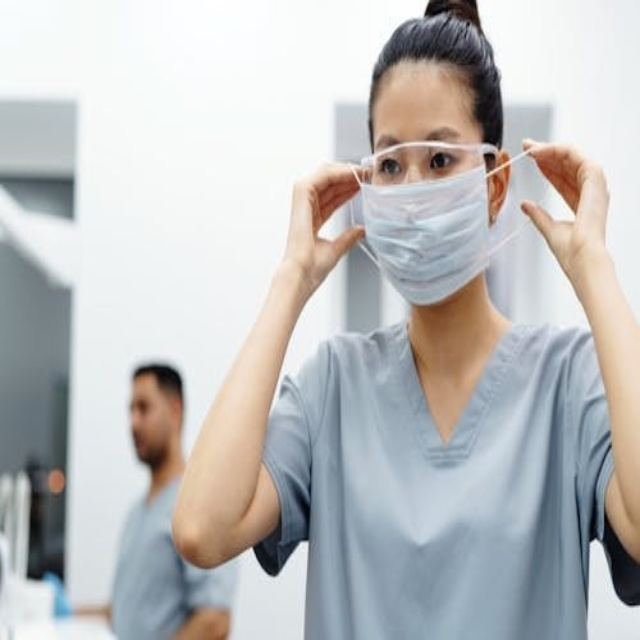Gafas: (353, 135, 504, 202)
Mascara: (354, 146, 506, 304)
Sin_guantes: (521, 135, 614, 267), (278, 152, 365, 292)
